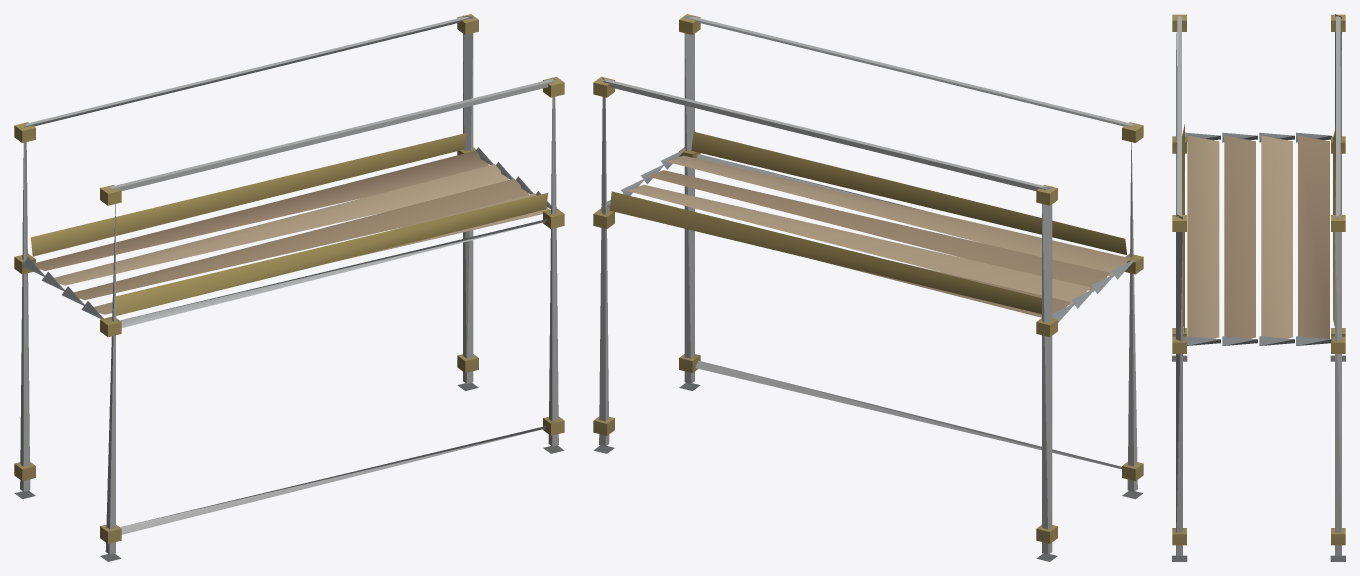
Rendered from scaffold.lod1.glb.
3 renders of one model, left to right at view 1: azimuth 30°, elevation 25°; view 2: azimuth 150°, elevation 25°; view 3: azimuth 270°, elevation 25°, orthographic. The views are drawn at different scales.
Bounding box in the file's own units: 4 × 3.1 × 1.42.
